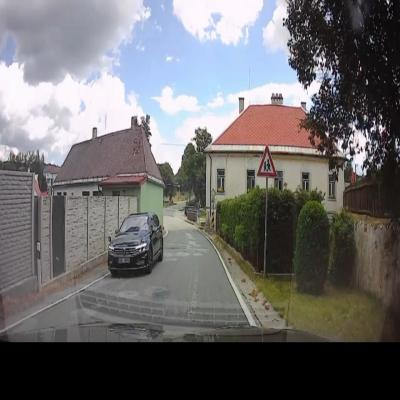clear-road: (99, 226, 230, 303)
